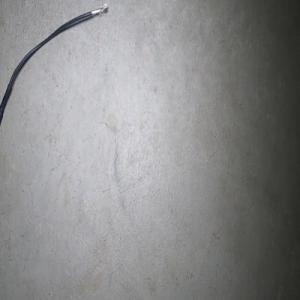Wire: (0, 1, 108, 128)
